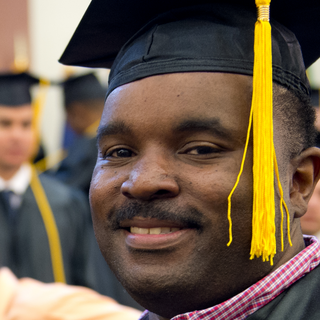eye: (169, 136, 228, 164), (98, 141, 141, 165)
